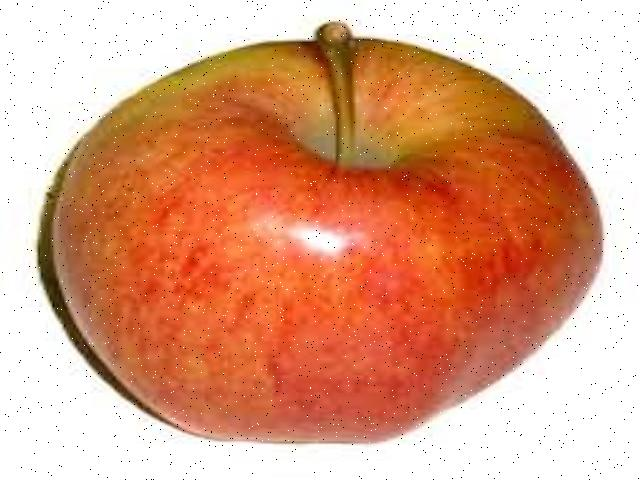apple: (36, 17, 614, 455)
